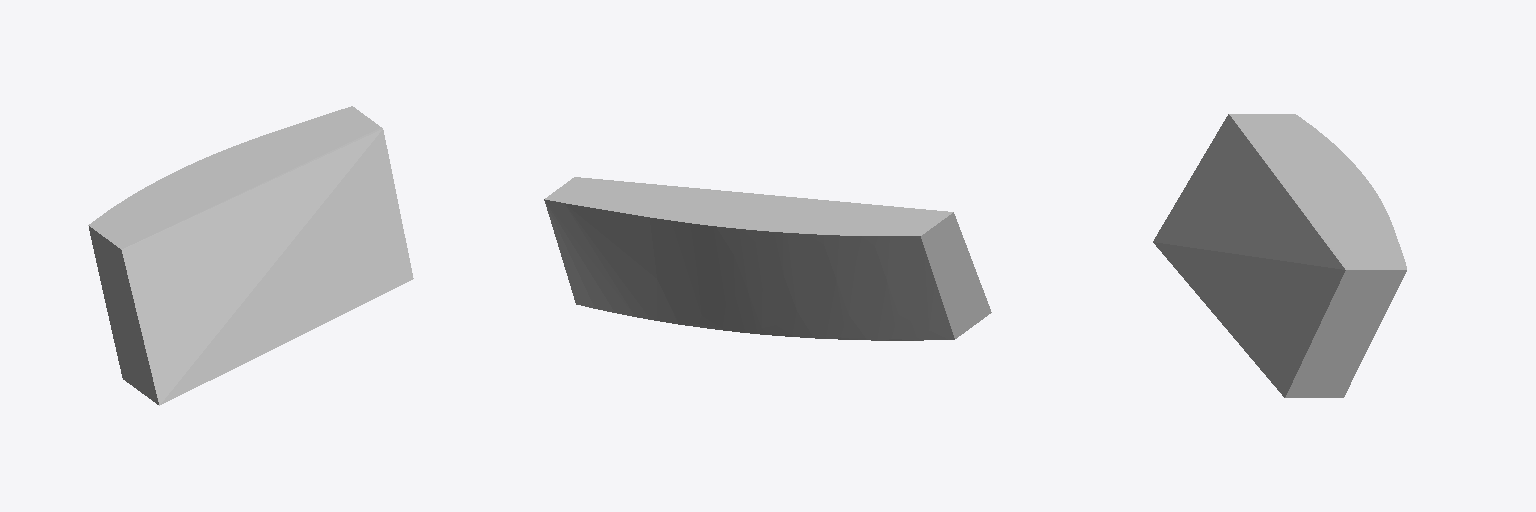
The model's file is skillet_collision_23.obj.
3 views of the same model, side by side, from view 1: azimuth 30°, elevation 25°; view 2: azimuth 150°, elevation 25°; view 3: azimuth 270°, elevation 25° (orthographic).
Size of the model in its own units: 0.0526 by 0.0201 by 0.0362.